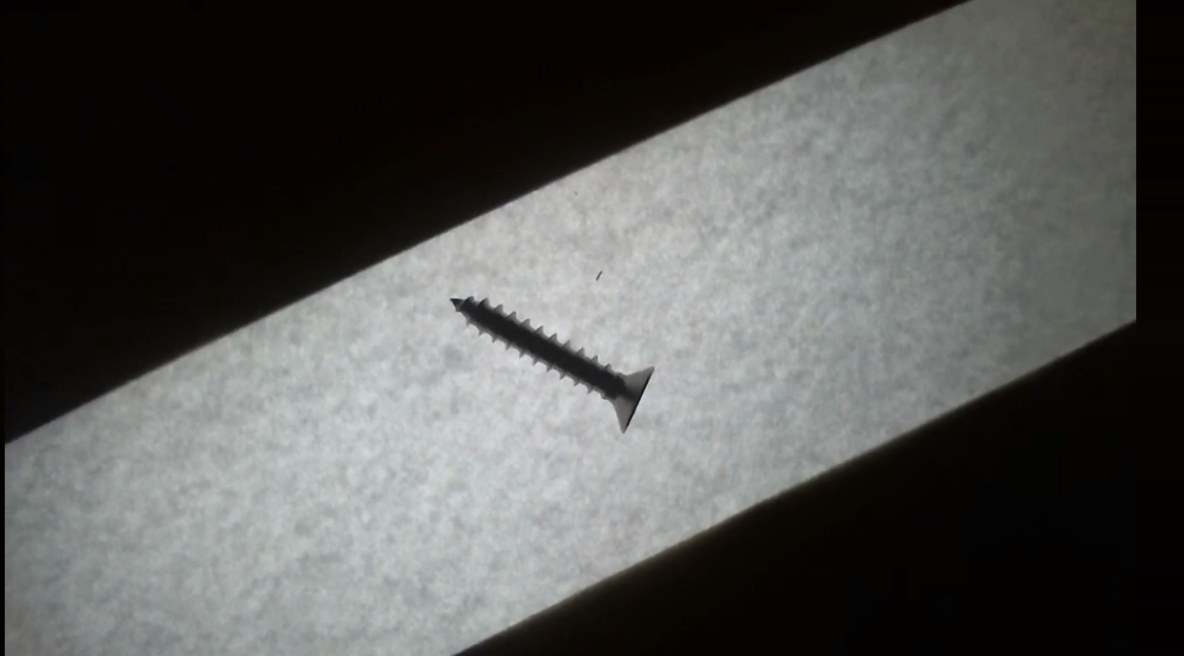S001: (424, 279, 664, 446)
